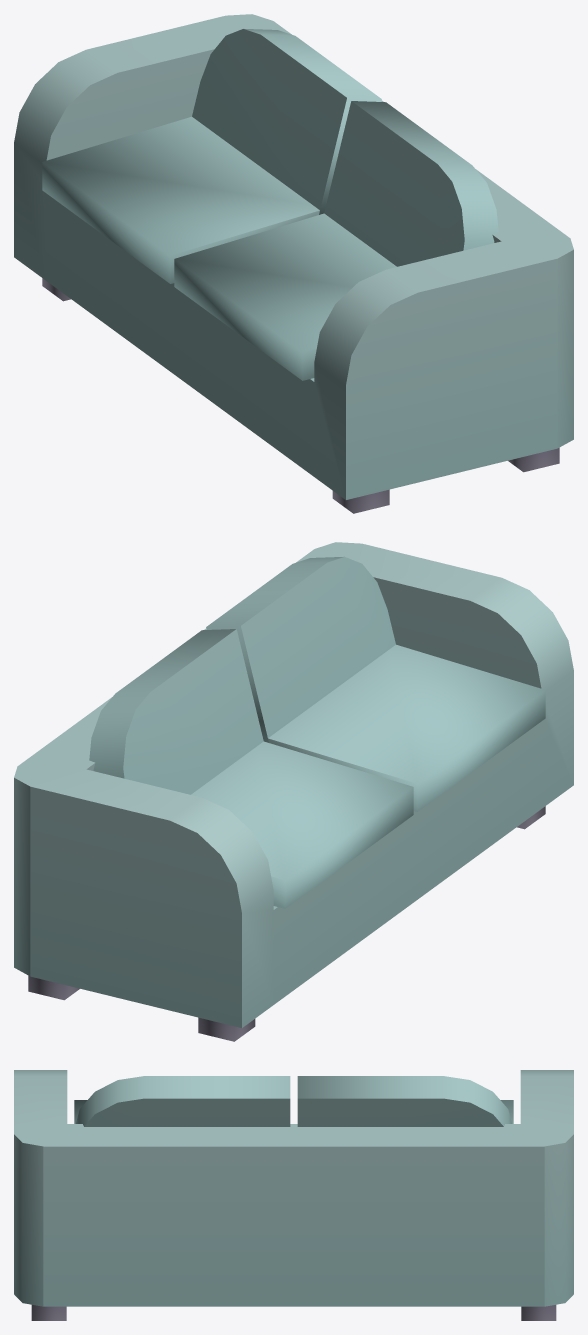
File: budapest-sofa.glb
3 renders of one model, top to bottom at view 1: azimuth 30°, elevation 25°; view 2: azimuth 150°, elevation 25°; view 3: azimuth 270°, elevation 25°, orthographic. The views are drawn at different scales.
Visible parts, largest first — view 1: budapest-sofa; view 2: budapest-sofa; view 3: budapest-sofa.
Part boxes in pixels (x1=…): budapest-sofa: x1=14, y1=14, x2=573, y2=513; budapest-sofa: x1=14, y1=542, x2=573, y2=1041; budapest-sofa: x1=14, y1=1070, x2=573, y2=1320.
Bounding box in the file's own units: 0.693 × 0.6995 × 1.6.
